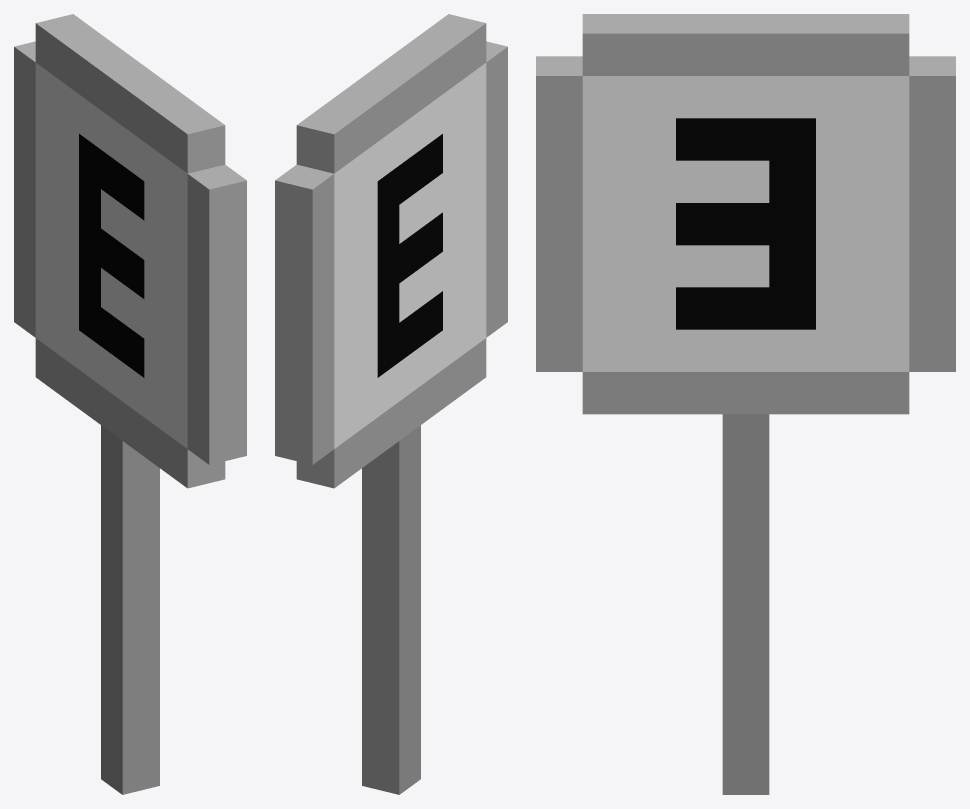
Rendered from Three.obj.
3 renders of one model, left to right at view 1: azimuth 30°, elevation 25°; view 2: azimuth 150°, elevation 25°; view 3: azimuth 270°, elevation 25°, orthographic. The views are drawn at different scales.
Bounding box in the file's own units: 1 × 18 × 9.
1 material, 1 textured.
